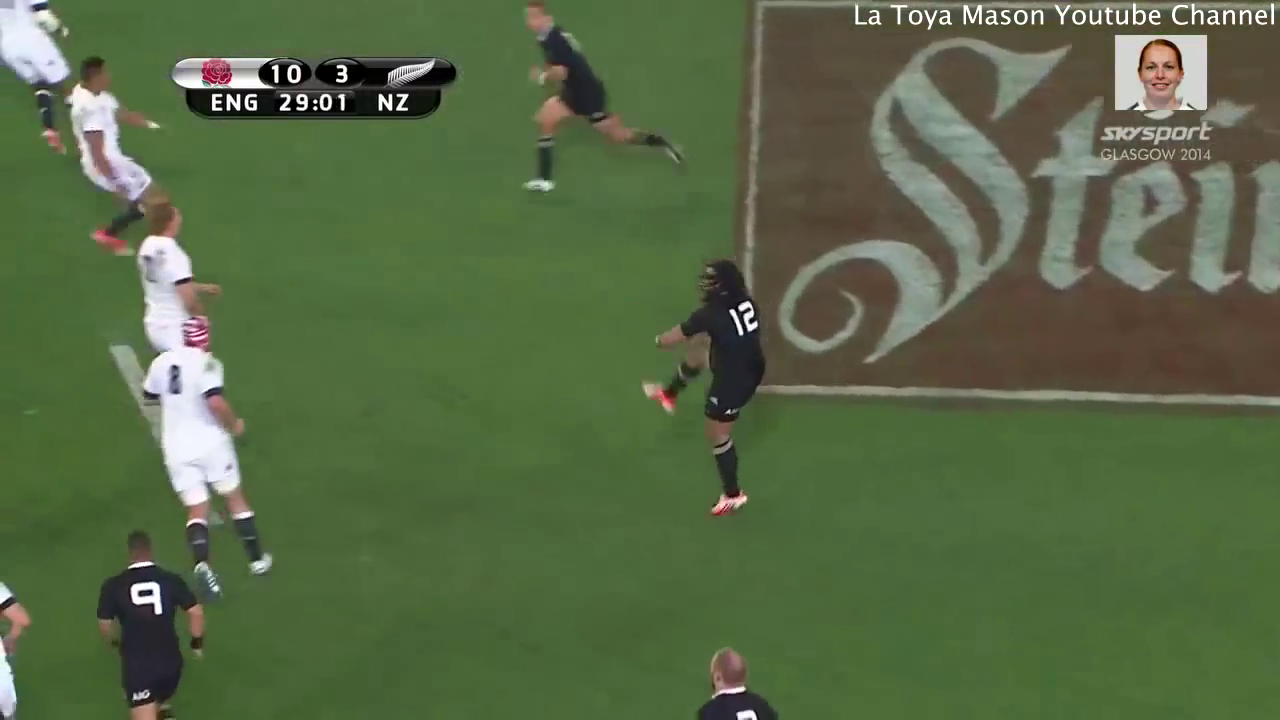player: (132, 316, 280, 582), (637, 255, 773, 524), (513, 1, 691, 200), (90, 526, 212, 720), (50, 55, 160, 239), (1, 1, 85, 143), (136, 196, 220, 334), (676, 632, 793, 720)
